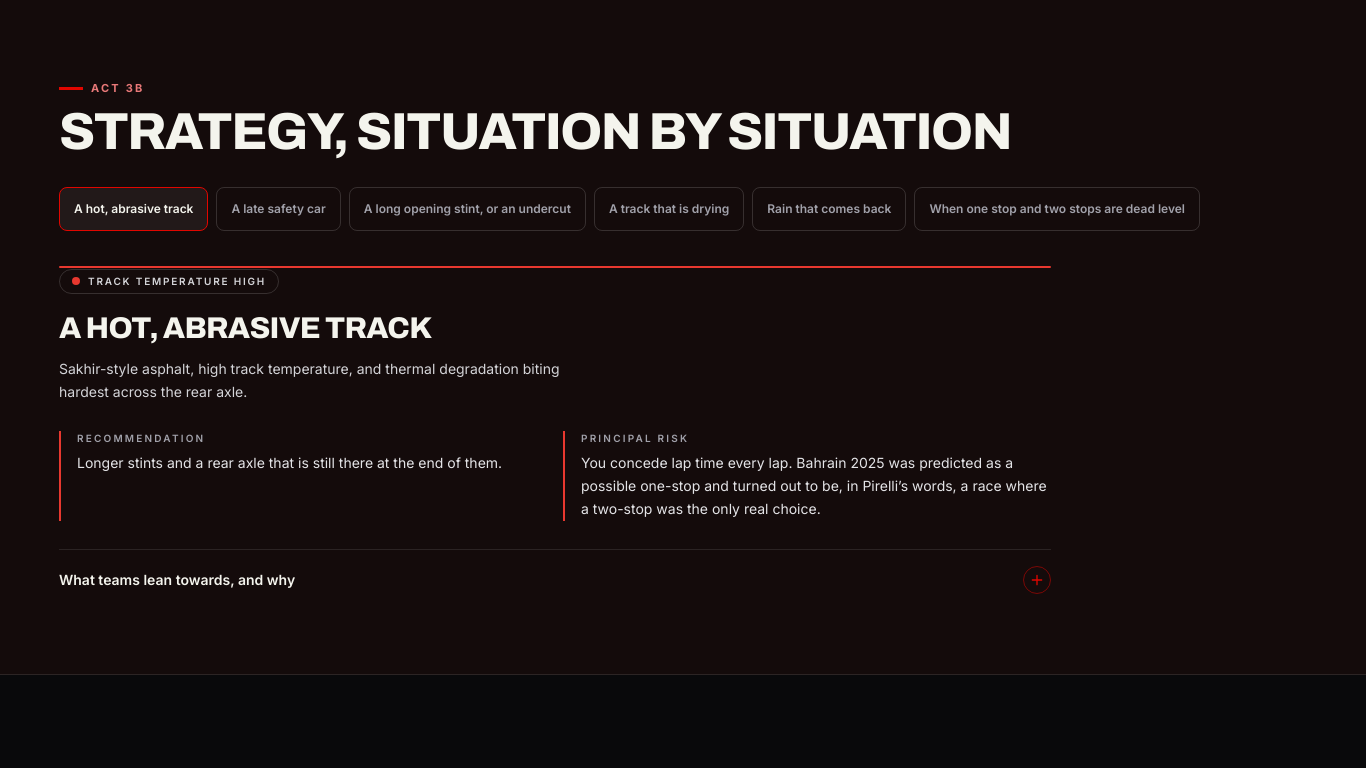
Test case: ActStrategy — interaction resilience › announces the selected scenario in a polite status region
This screenshot has width=1366, height=768.
Step 1. Click the button "A long opening stint, or an undercut" → [467, 209], box [349,187,586,231]
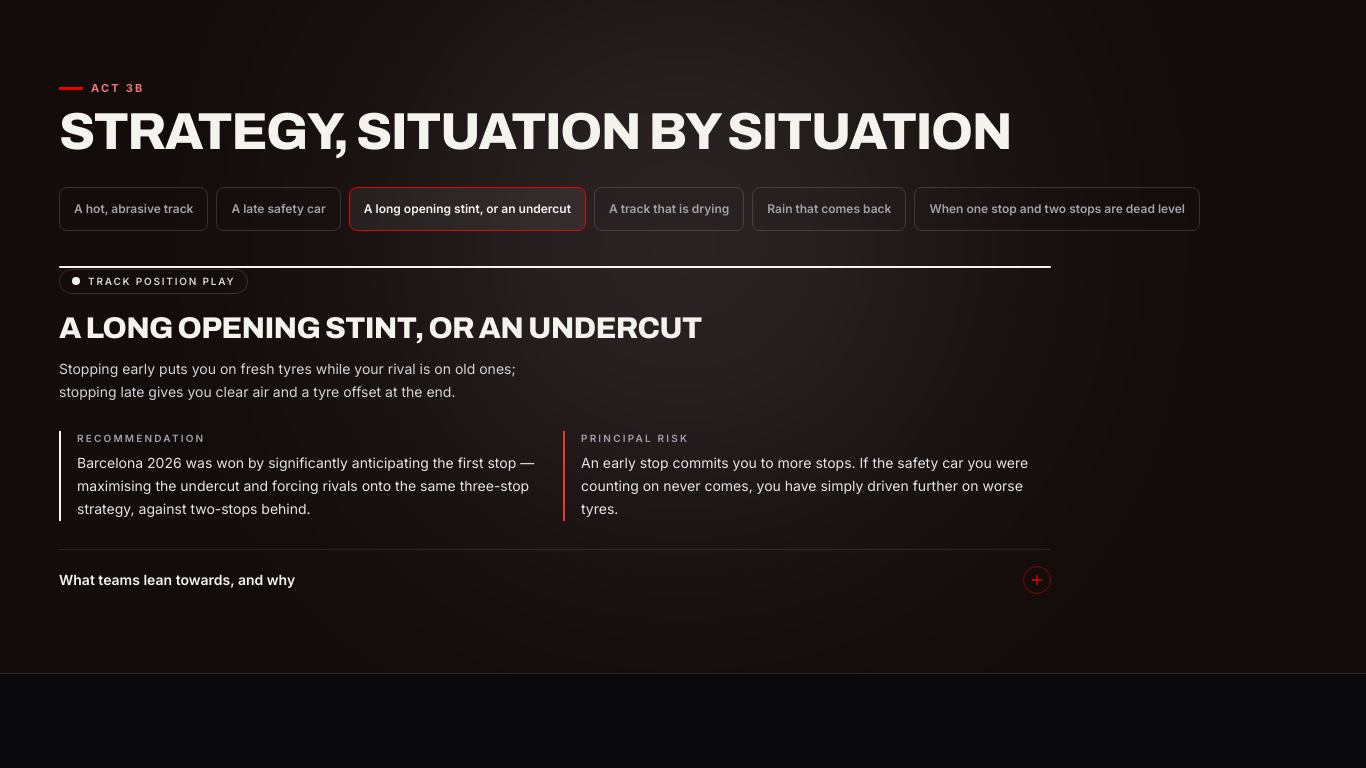
Expected: the heading "A long opening stint, or an undercut" is shown, [59,312,702,344]
